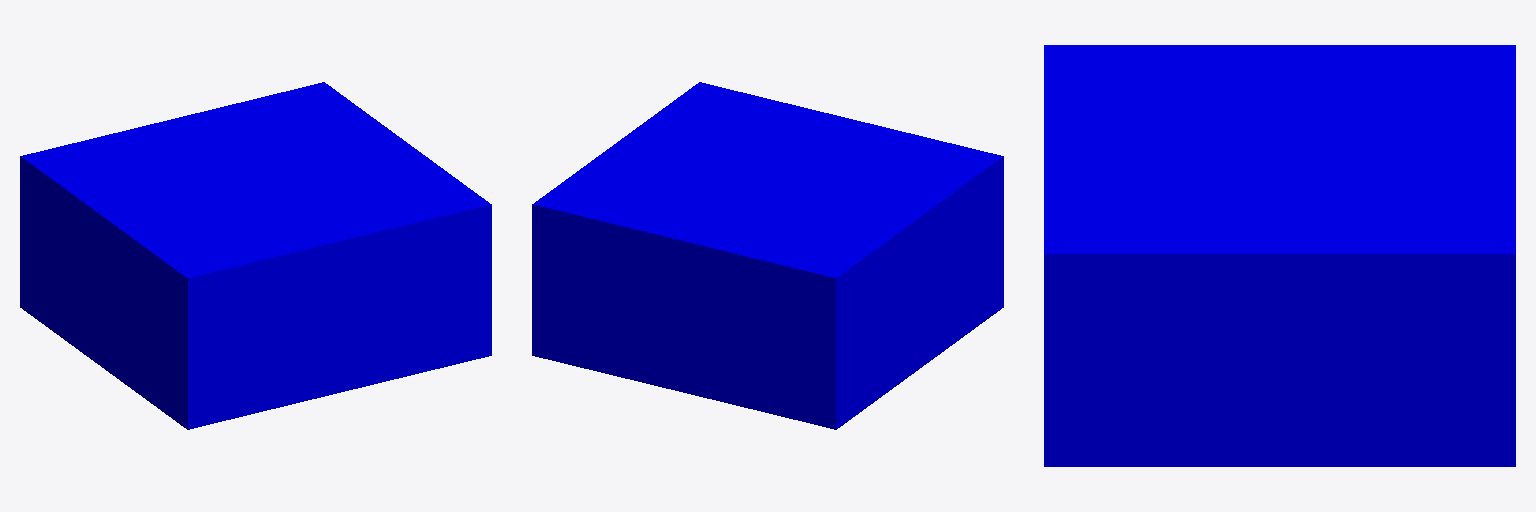
URDF robot description (caja_simple_robot):
<?xml version="1.0"?>
<robot name="caja_simple_robot">
  <!-- Definición del único link con una caja como geometría de colisión y visualización -->
  <link name="link_caja">
    <origin xyz="0.0 0.0 0.0" rpy="0 0 0"/>
    <visual>
      <origin xyz="-0.085 0 0" rpy="0 0 0"/> 
      <geometry>
        <box size="0.21 0.2 0.1"/>
      </geometry>
      <material name="azul">
        <color rgba="0 0 1 1"/>
      </material>
    </visual>
    <collision>
      <origin xyz="-0.085 0 0" rpy="0 0 0"/>
      <geometry>
        <box size="0.21 0.2 0.1"/>
      </geometry>
    </collision>
    <inertial>
      <mass value="1.0"/>
      <origin xyz="0 0 0"/>
      <inertia ixx="0.01" ixy="0" ixz="0" iyy="0.01" iyz="0" izz="0.01"/>
    </inertial>
  </link>

  <!-- Base del robot (no necesariamente requerido para un modelo estático, pero útil para definiciones completas) -->
  <link name="base_link">
  </link>

  <!-- Joint ficticio para conectar la base con el link de la caja -->
  <joint name="base_to_caja_joint" type="fixed">
    <parent link="base_link"/>
    <child link="link_caja"/>
    <origin xyz="0.0 0 0" rpy="0 0 0"/>
  </joint>
</robot>

--- Facts derived from the render (not from the file) ---
3 views of the same robot in one strip: view 1: azimuth 30°, elevation 25°; view 2: azimuth 150°, elevation 25°; view 3: azimuth 270°, elevation 25° (orthographic).
Robot: caja_simple_robot — 2 links, 1 joints (1 fixed); root link base_link; default pose: all joints at 0.
Links seen in each view (by area): view 1: link_caja; view 2: link_caja; view 3: link_caja.
Link boxes in pixels (x1,y1,x2,y2): link_caja: (20, 82, 491, 429); link_caja: (532, 82, 1003, 429); link_caja: (1044, 45, 1515, 466).
Bounding box of the posed robot: 0.21 × 0.2 × 0.1 m (x, y, z).
Geometry: primitives only (box / cylinder / sphere), no mesh files.
